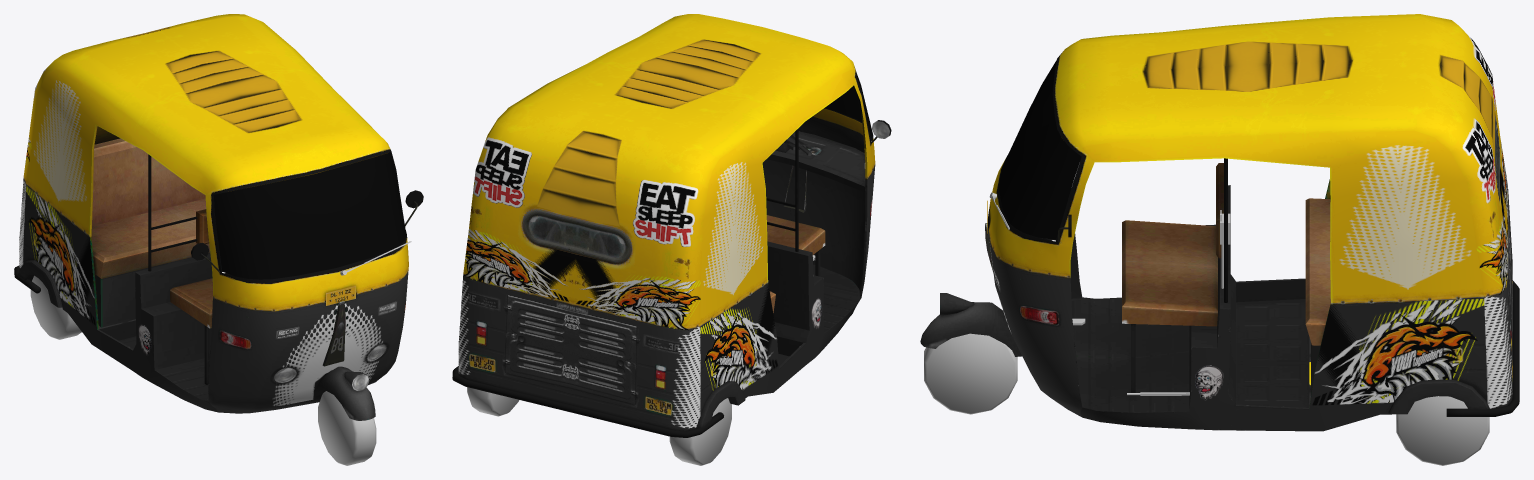
Rendered from black tuk tuk.FBX.
3 views of the same model, side by side, from view 1: azimuth 30°, elevation 25°; view 2: azimuth 150°, elevation 25°; view 3: azimuth 270°, elevation 25° (orthographic). The views are drawn at different scales.
Visible parts, largest first — view 1: Box044, Object016, front, right; view 2: Box044, right, left, Object016; view 3: Box044, Object016, front, left.
Part boxes in pixels (left/top/right/bottom): Box044: left=14, top=14, right=423, bottom=420; Object016: left=213, top=152, right=406, bottom=279; front: left=318, top=391, right=376, bottom=465; right: left=30, top=275, right=81, bottom=339; Box044: left=452, top=14, right=891, bottom=437; right: left=669, top=398, right=731, bottom=465; left: left=467, top=387, right=519, bottom=416; Object016: left=825, top=73, right=872, bottom=139; Box044: left=920, top=14, right=1519, bottom=431; Object016: left=998, top=60, right=1081, bottom=239; front: left=924, top=333, right=1017, bottom=414; left: left=1396, top=396, right=1489, bottom=465.
Size of the model in its own units: 24.17 by 28.87 by 44.56.
